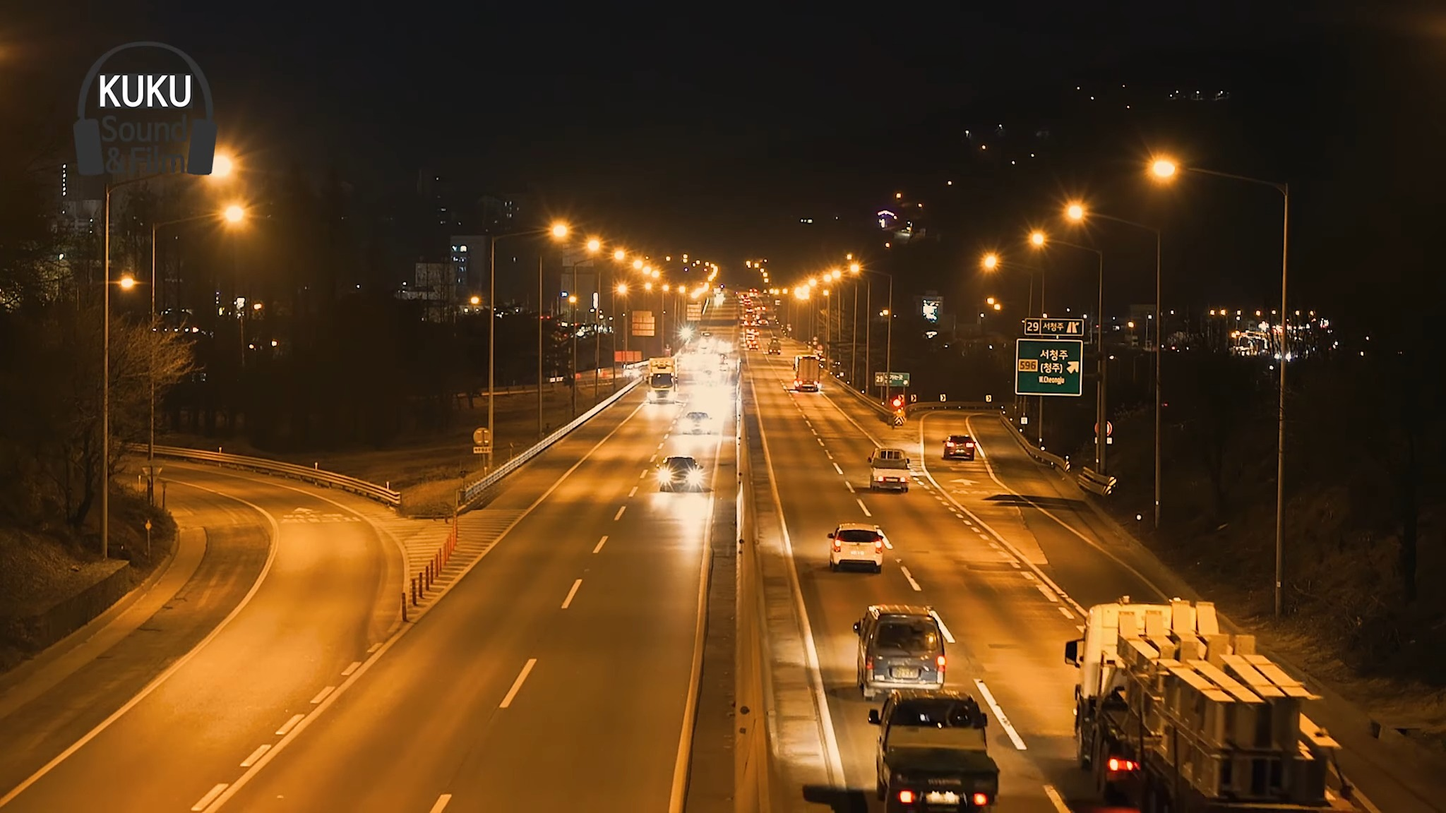car: (855, 597, 952, 703), (823, 523, 887, 573), (661, 456, 699, 494)
truck: (1074, 597, 1378, 813), (869, 685, 1004, 810)
